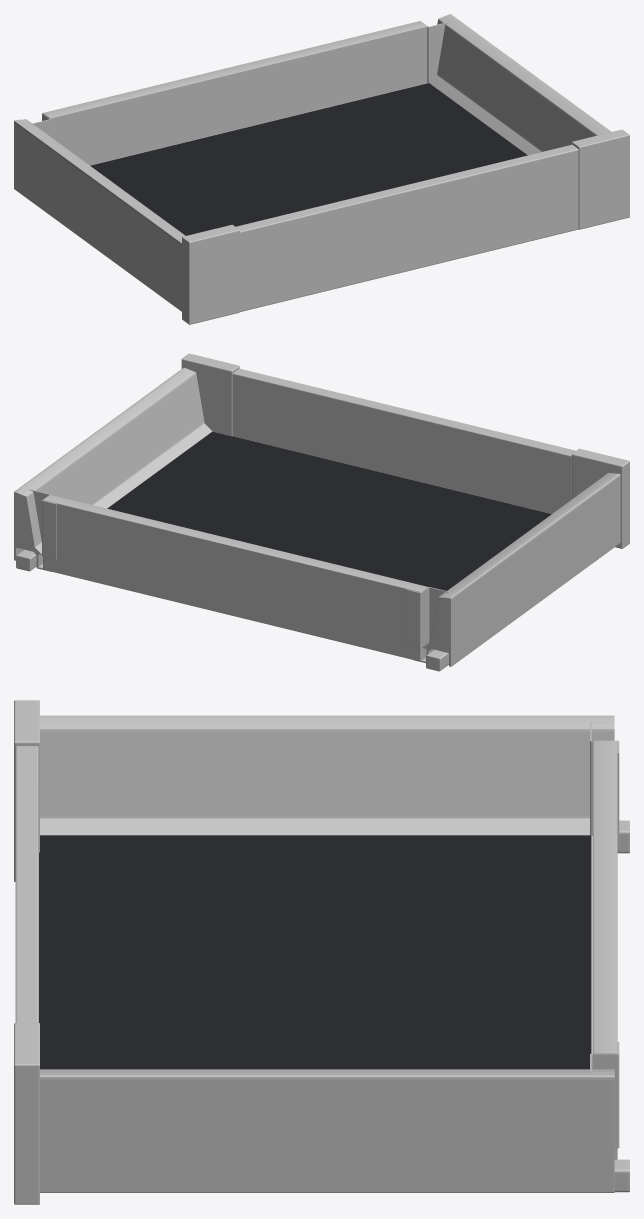
The model's file is SM_Kitchen_08_Sink_Drawer_02.dae.
3 views of the same model, one above another, from view 1: azimuth 30°, elevation 25°; view 2: azimuth 150°, elevation 25°; view 3: azimuth 270°, elevation 25° (orthographic). The views are drawn at different scales.
Visible parts, largest first — view 1: SM_Kitchen_08_Sink_Drawer_02; view 2: SM_Kitchen_08_Sink_Drawer_02; view 3: SM_Kitchen_08_Sink_Drawer_02.
Part boxes in pixels (x1=…): SM_Kitchen_08_Sink_Drawer_02: x1=14, y1=14, x2=629, y2=324; SM_Kitchen_08_Sink_Drawer_02: x1=14, y1=353, x2=629, y2=671; SM_Kitchen_08_Sink_Drawer_02: x1=14, y1=700, x2=629, y2=1204.
Bounding box in the file's own units: 0.5619 × 0.401 × 0.101.
